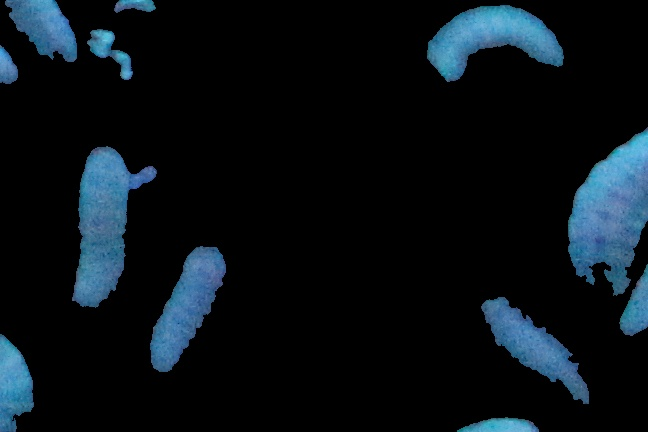larvae: (566, 118, 648, 293), (480, 297, 593, 408), (428, 1, 563, 84), (148, 244, 224, 371), (75, 146, 125, 308), (1, 1, 76, 59)
